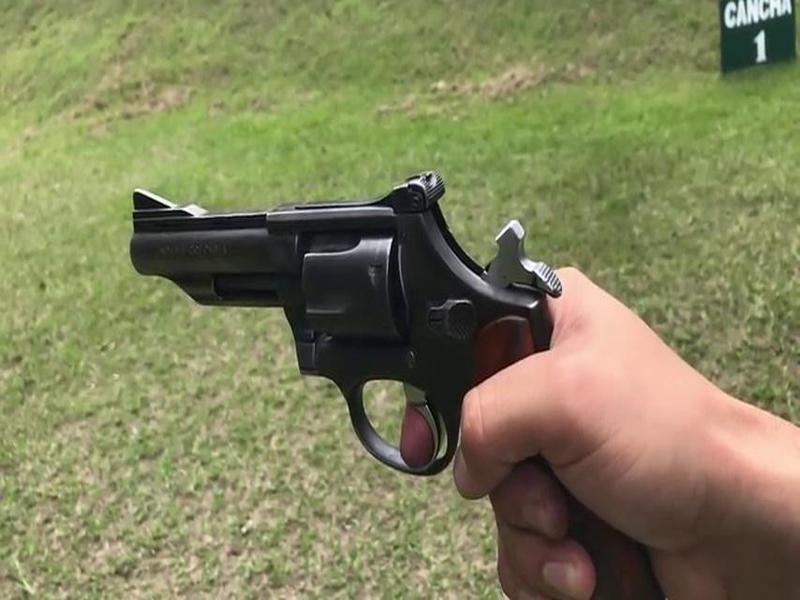Revolver: (114, 158, 600, 524)
